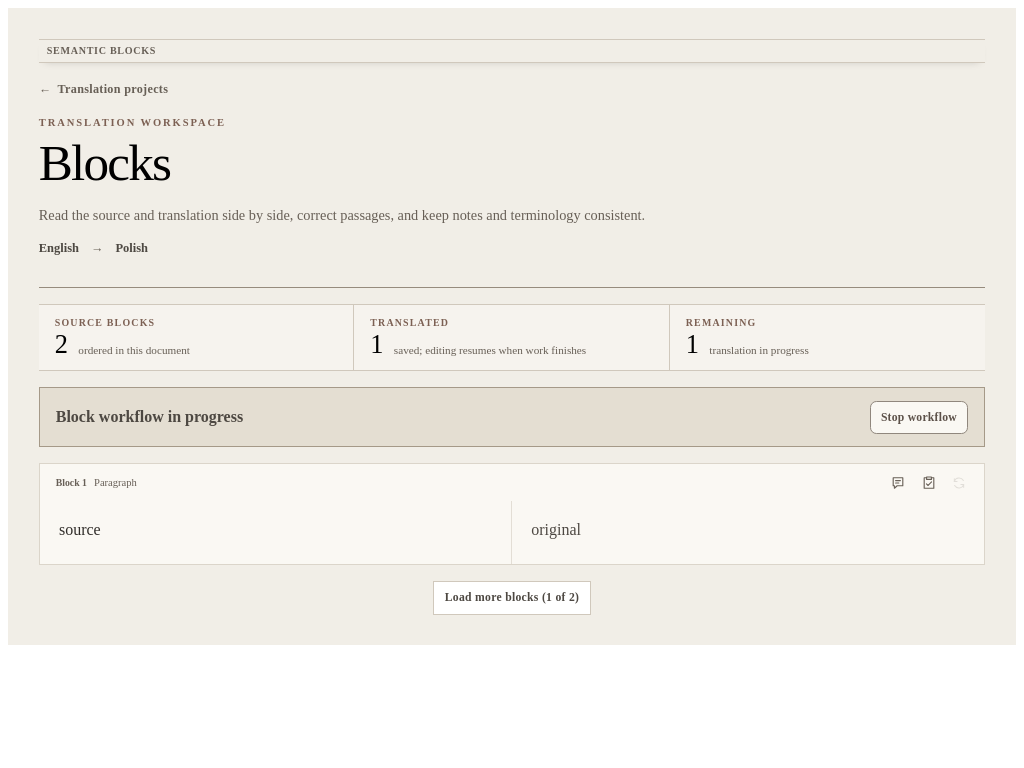
Scenario: BlockWorkspaceApp concurrent reads and writes › retains a loaded page when a delayed status poll finishes after load more
Click the button "Load more blocks (1 of 2)" at (512, 598), box [433,581,591,615]
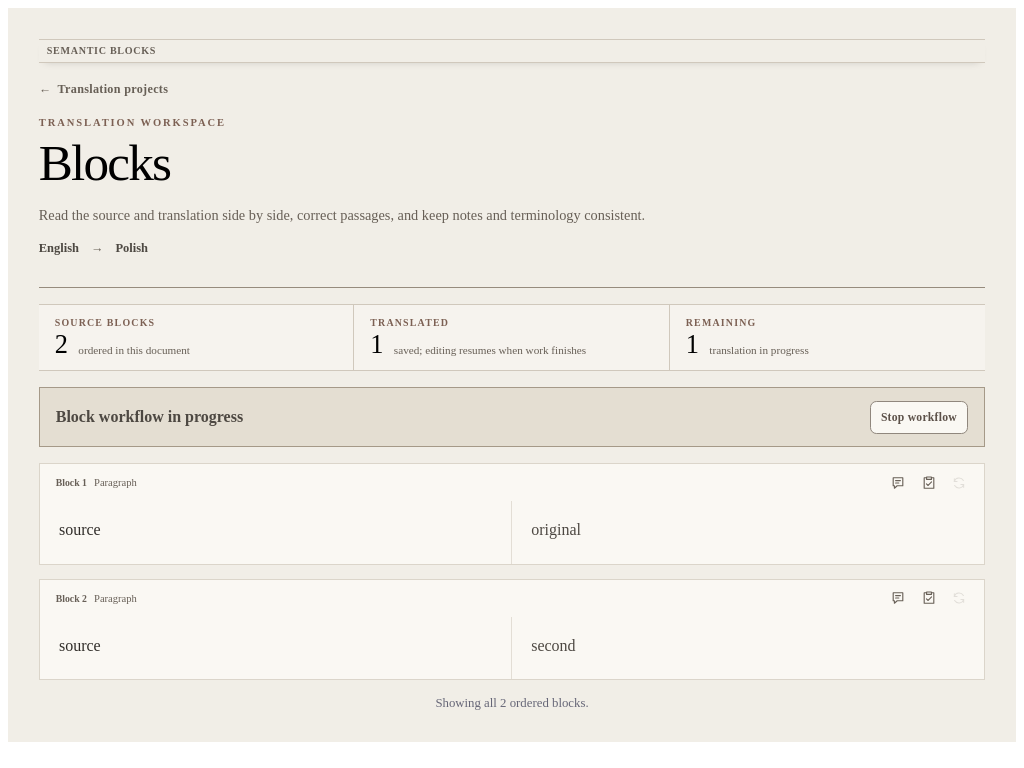
Now the element showing "Block 2 Paragraph source second" is shown, box [39,579,985,680]
Now the field labelled "second" is shown, box [531,636,576,654]
